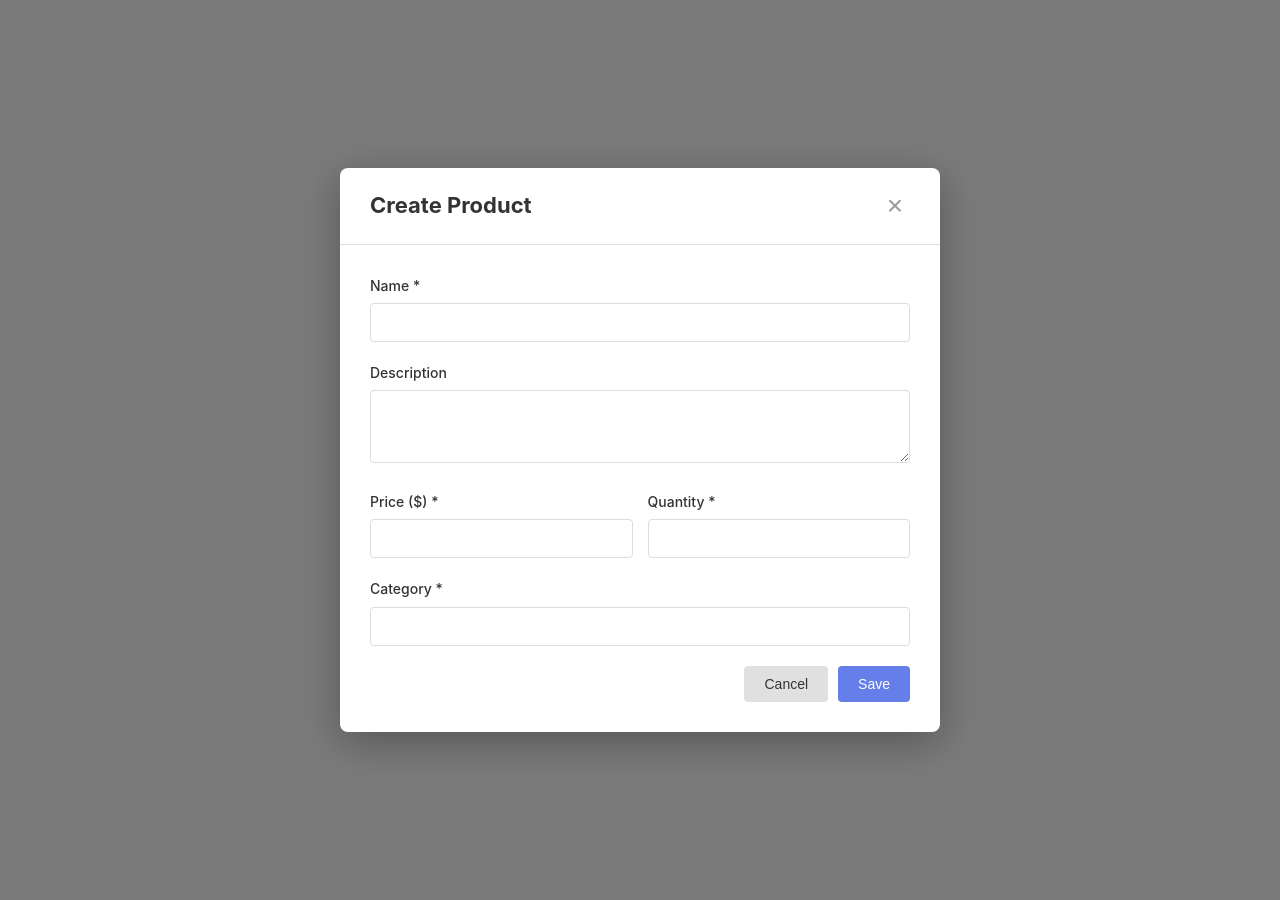
ProductModal › should validate required fields
The image size is (1280, 900).
Click the button "Save" at (874, 684), box [838,666,910,702]
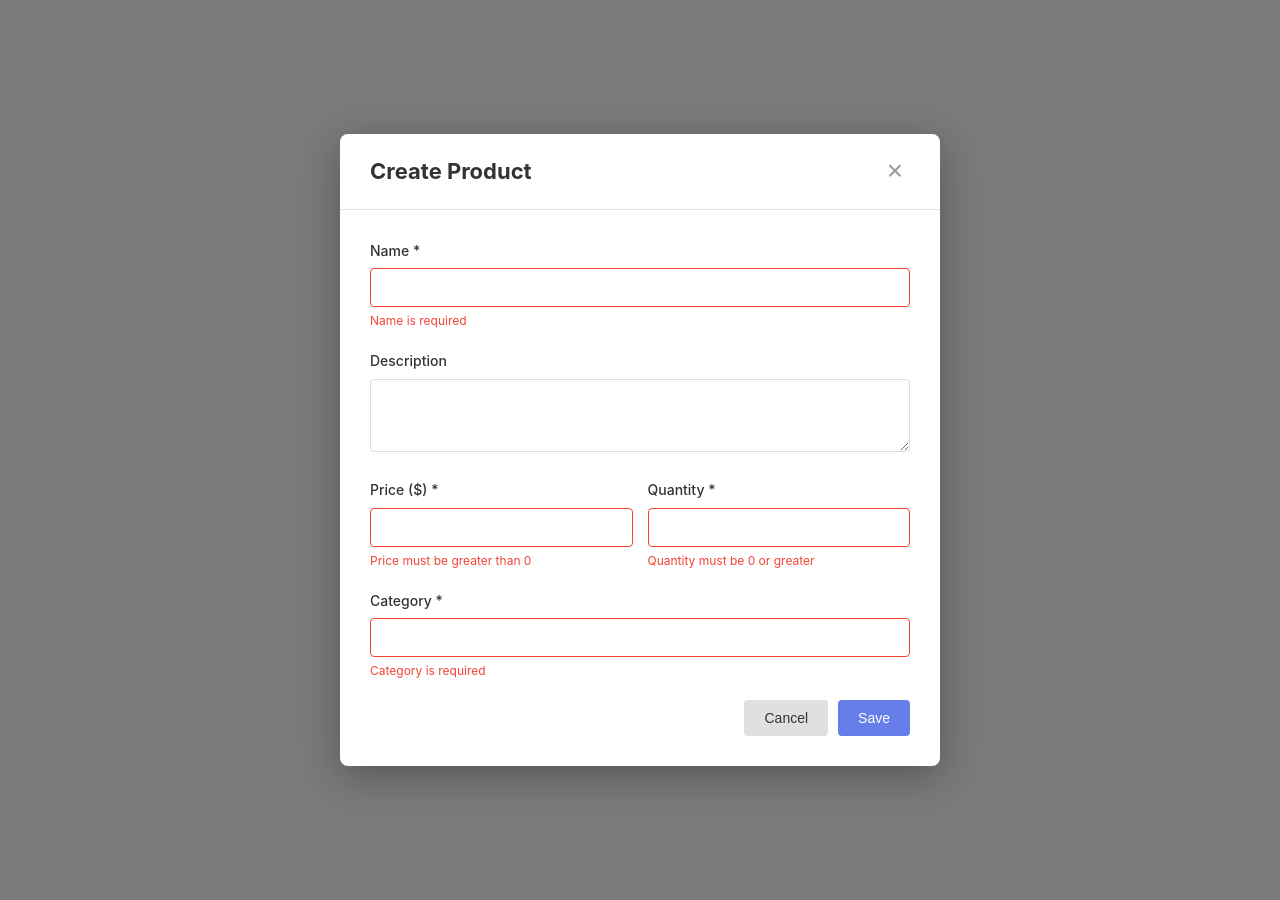
Check: the text "Name is required" is shown, box [370,313,467,328]
Check: the text "Price must be greater than 0" is shown, box [370,553,531,568]
Check: the text "Category is required" is shown, box [370,663,486,678]
